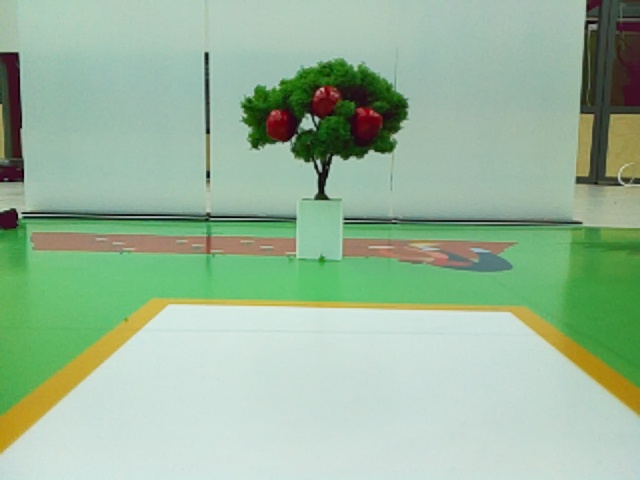apple: (313, 86, 341, 115), (356, 107, 382, 135), (266, 110, 288, 141)
